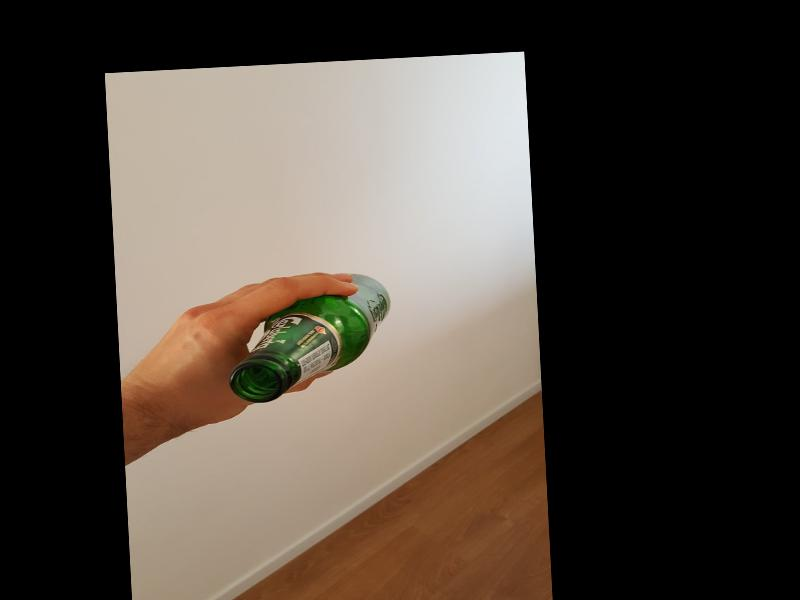Beer: (223, 273, 395, 407)
